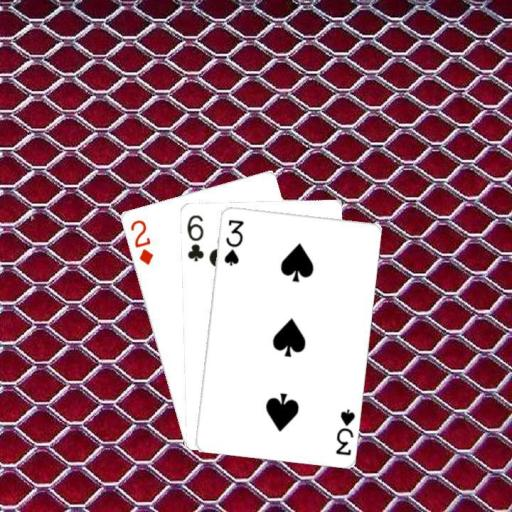2D: (127, 216, 154, 266)
3S: (221, 216, 245, 267), (332, 406, 356, 457)
6C: (183, 212, 205, 263)
